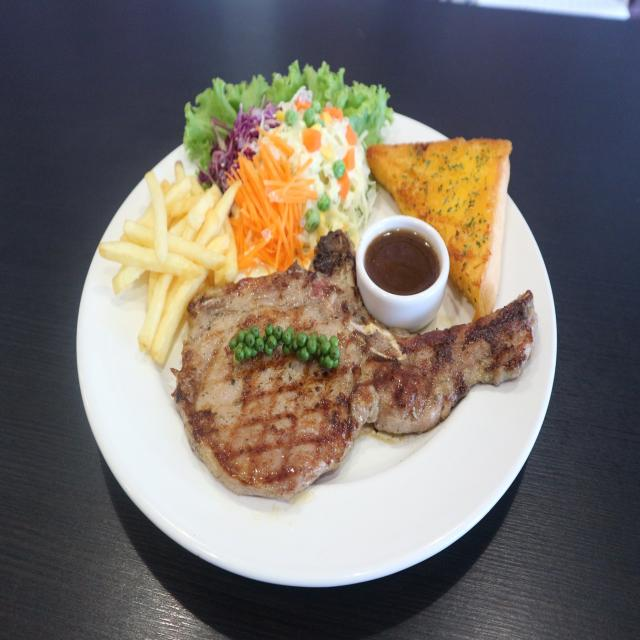Carbohydrate: (97, 156, 247, 370), (365, 136, 510, 322)
Protein: (169, 232, 535, 502)
Steak: (100, 59, 561, 551)
Vegetable: (179, 65, 389, 271)
